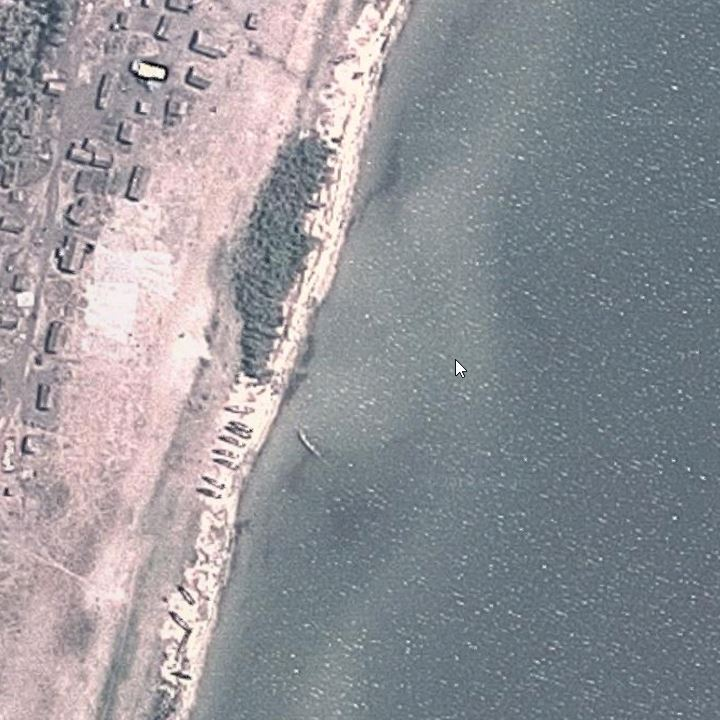boat: (289, 424, 334, 460), (164, 608, 199, 633), (171, 627, 196, 661), (198, 474, 233, 492), (220, 424, 254, 442), (208, 457, 246, 473), (213, 434, 247, 451), (174, 585, 200, 607), (207, 445, 243, 460), (218, 403, 259, 416), (190, 487, 226, 501), (227, 418, 258, 433), (167, 669, 196, 683)
